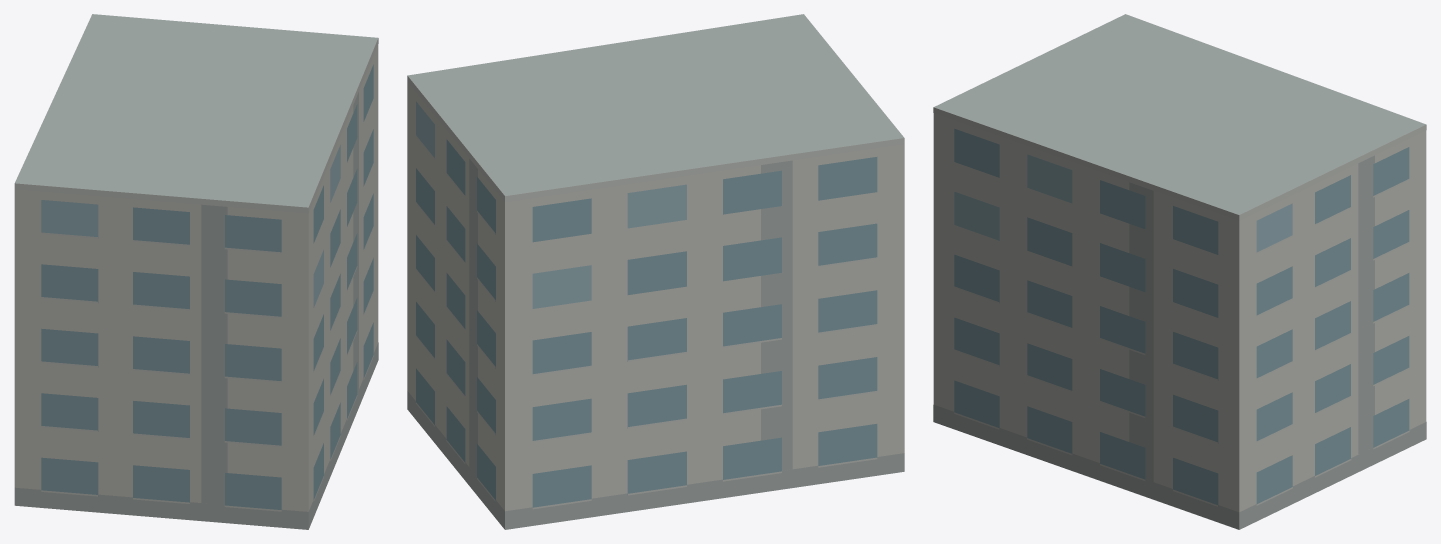
Rendered from survey-upis-32883254.glb.
The picture shows the model from 3 angles, left to right: view 1: azimuth 30°, elevation 25°; view 2: azimuth 150°, elevation 25°; view 3: azimuth 270°, elevation 25°; orthographic projection. The views are drawn at different scales.
Visible parts, largest first — view 1: survey-upis-32883254.tmp; view 2: survey-upis-32883254.tmp; view 3: survey-upis-32883254.tmp.
Boxes of the visible parts, x1,y1,x2,y2 form: survey-upis-32883254.tmp: (14, 14, 378, 529); survey-upis-32883254.tmp: (407, 14, 904, 529); survey-upis-32883254.tmp: (933, 14, 1426, 529).
Bounding box in the file's own units: 18.03 × 13.15 × 18.67.
